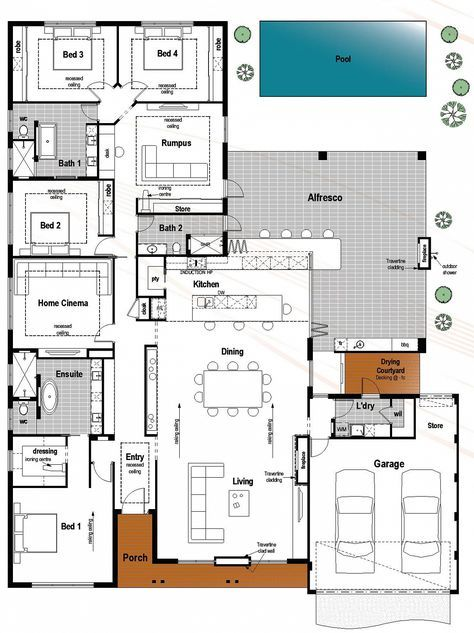door: (121, 486, 147, 507), (309, 436, 331, 458), (91, 462, 112, 484), (79, 102, 98, 123), (93, 322, 112, 343), (227, 213, 246, 234), (228, 179, 247, 200), (360, 375, 379, 396), (336, 398, 355, 419), (93, 238, 112, 257)
